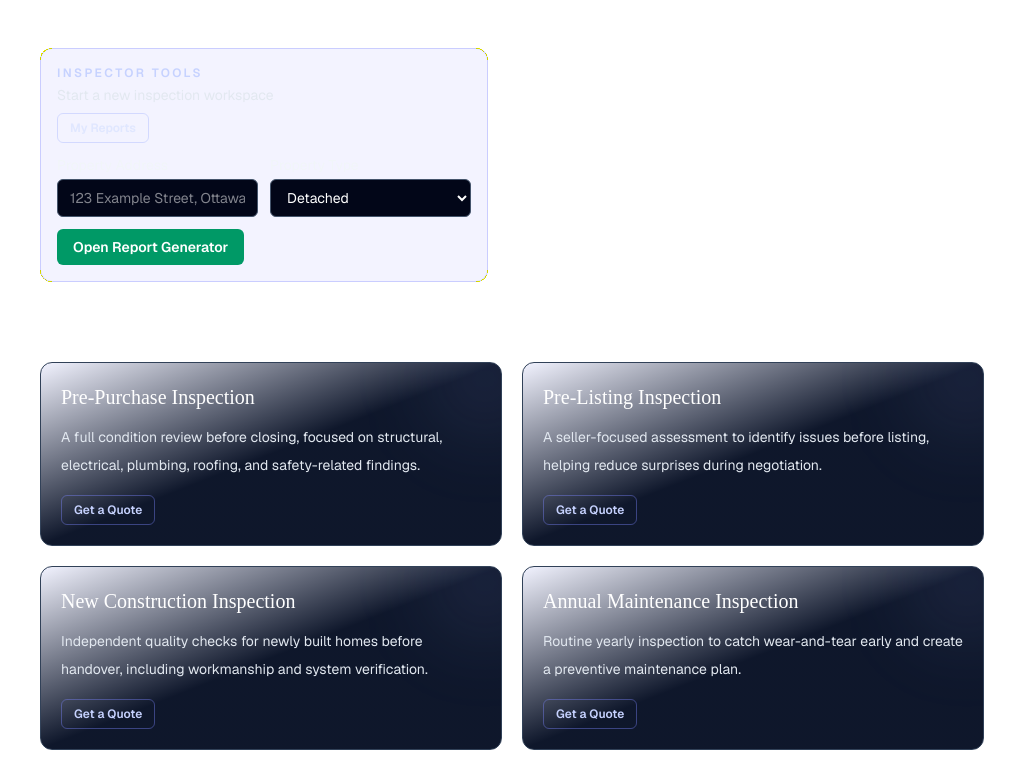
it: ServiceDetail › validates address before opening report generator
The image size is (1024, 768).
Click the button "Open Report Generator": (151, 247) 57,229 -> 244,265
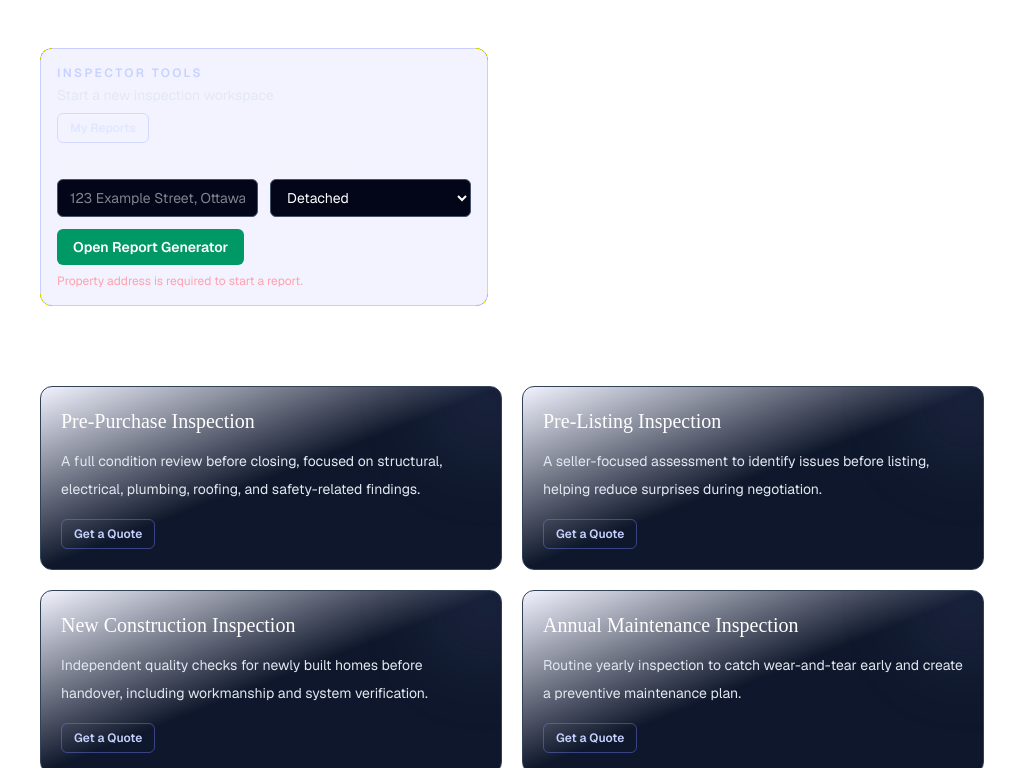
Expected: the text "Property address is required to start a report." is shown, 57,273 -> 303,289
